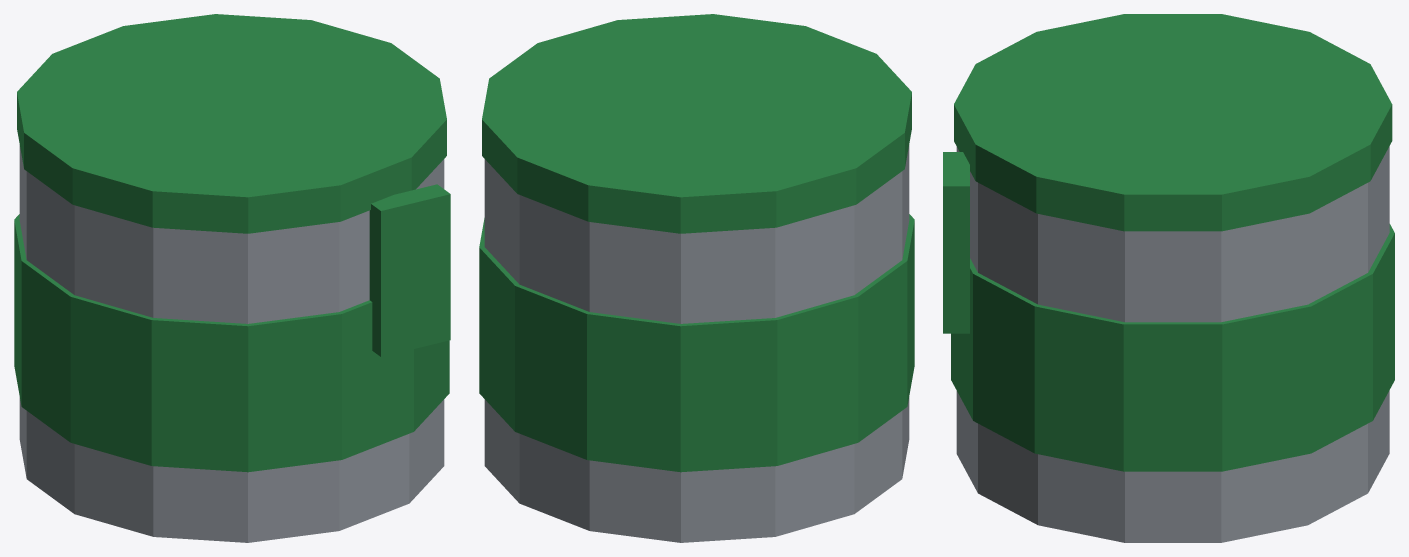
File: green_ink_tin.glb
The picture shows the model from 3 angles, left to right: view 1: azimuth 30°, elevation 25°; view 2: azimuth 150°, elevation 25°; view 3: azimuth 270°, elevation 25°; orthographic projection.
Parts seen in each view (by area): view 1: lid_tin_green, tin_press_steel, label_tin_green, drip_tin_green; view 2: lid_tin_green, tin_press_steel, label_tin_green; view 3: lid_tin_green, tin_press_steel, label_tin_green, drip_tin_green.
Part boxes in pixels (<box>): lid_tin_green: <box>17,14,446,233</box>; tin_press_steel: <box>19,145,444,542</box>; label_tin_green: <box>14,214,449,472</box>; drip_tin_green: <box>369,184,450,356</box>; lid_tin_green: <box>482,14,911,233</box>; tin_press_steel: <box>484,145,909,542</box>; label_tin_green: <box>479,214,914,472</box>; lid_tin_green: <box>954,14,1392,231</box>; tin_press_steel: <box>956,146,1389,542</box>; label_tin_green: <box>951,224,1394,471</box>; drip_tin_green: <box>943,152,969,333</box>.
Size of the model in its own units: 0.1599 by 0.1425 by 0.167.
